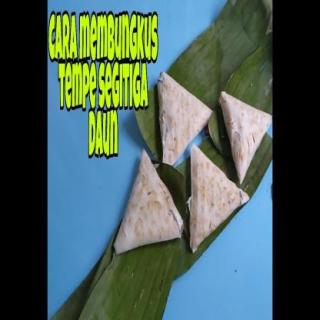Tempe: (112, 147, 186, 254)
